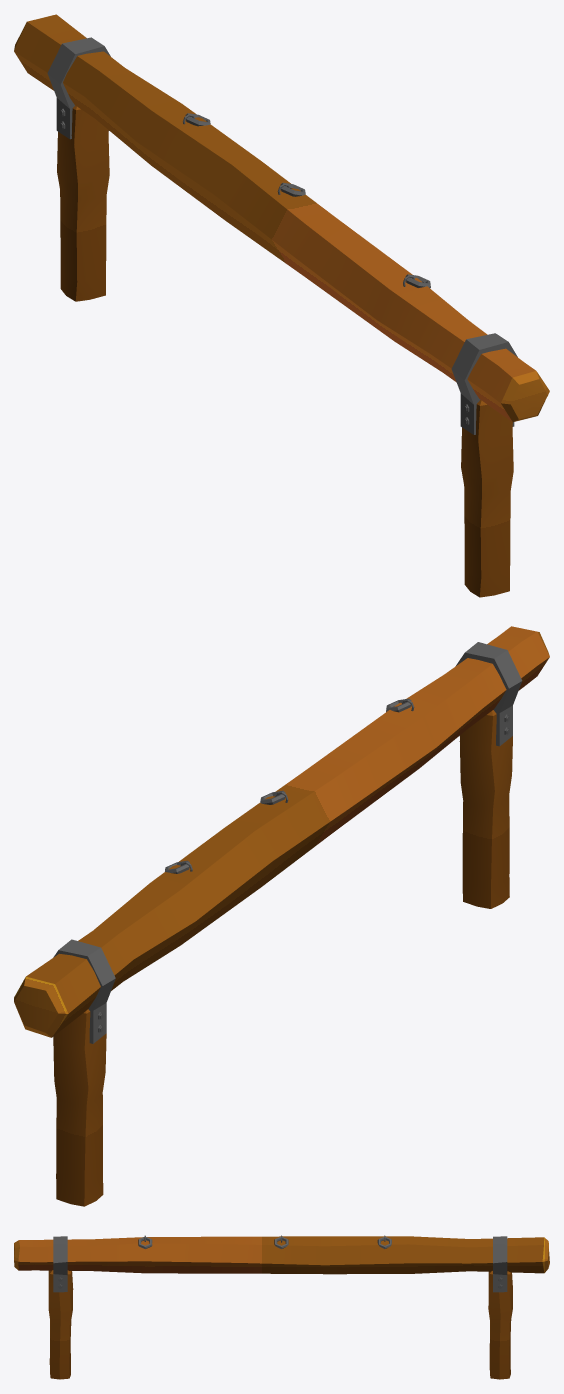
The model's file is SM_HitchingPost.fbx.
3 views of the same model, one above another, from view 1: azimuth 30°, elevation 25°; view 2: azimuth 150°, elevation 25°; view 3: azimuth 270°, elevation 25° (orthographic). The views are drawn at different scales.
Parts seen in each view (by area): view 1: pCylinder25, pCube6, pCube7, pCylinder27, pCylinder28; view 2: pCylinder25, pCube6, pCube7, pCylinder27, pCylinder28; view 3: pCylinder25, pCube6, pCube7, pCylinder27, pCylinder28.
Part boxes in pixels (bbox=[...]): pCylinder25: bbox=[14, 14, 549, 421]; pCube6: bbox=[461, 400, 513, 597]; pCube7: bbox=[57, 105, 109, 301]; pCylinder27: bbox=[451, 333, 517, 434]; pCylinder28: bbox=[47, 37, 110, 139]; pCylinder25: bbox=[14, 626, 549, 1037]; pCube6: bbox=[459, 710, 512, 908]; pCube7: bbox=[53, 1009, 106, 1206]; pCylinder27: bbox=[455, 642, 522, 746]; pCylinder28: bbox=[53, 939, 115, 1043]; pCylinder25: bbox=[14, 1236, 549, 1274]; pCube6: bbox=[48, 1270, 73, 1379]; pCube7: bbox=[488, 1271, 512, 1379]; pCylinder27: bbox=[53, 1236, 67, 1292]; pCylinder28: bbox=[493, 1236, 507, 1292].
Size of the model in its own units: 26.36 by 106 by 372.
1 material, 1 textured.
